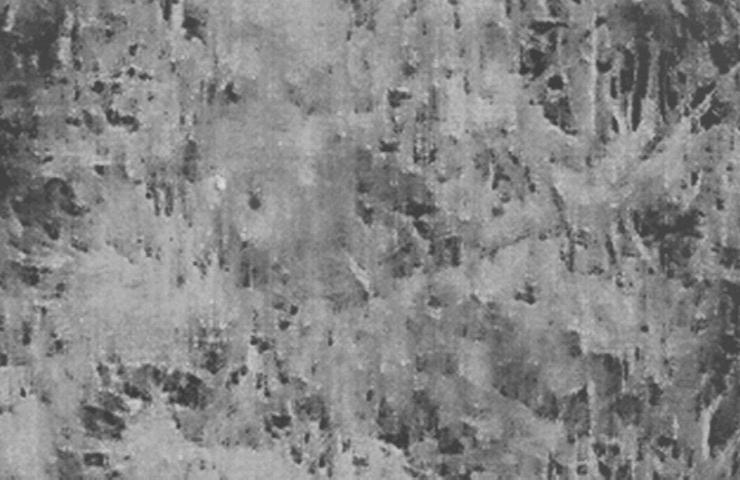landmines: (216, 164, 320, 260)
